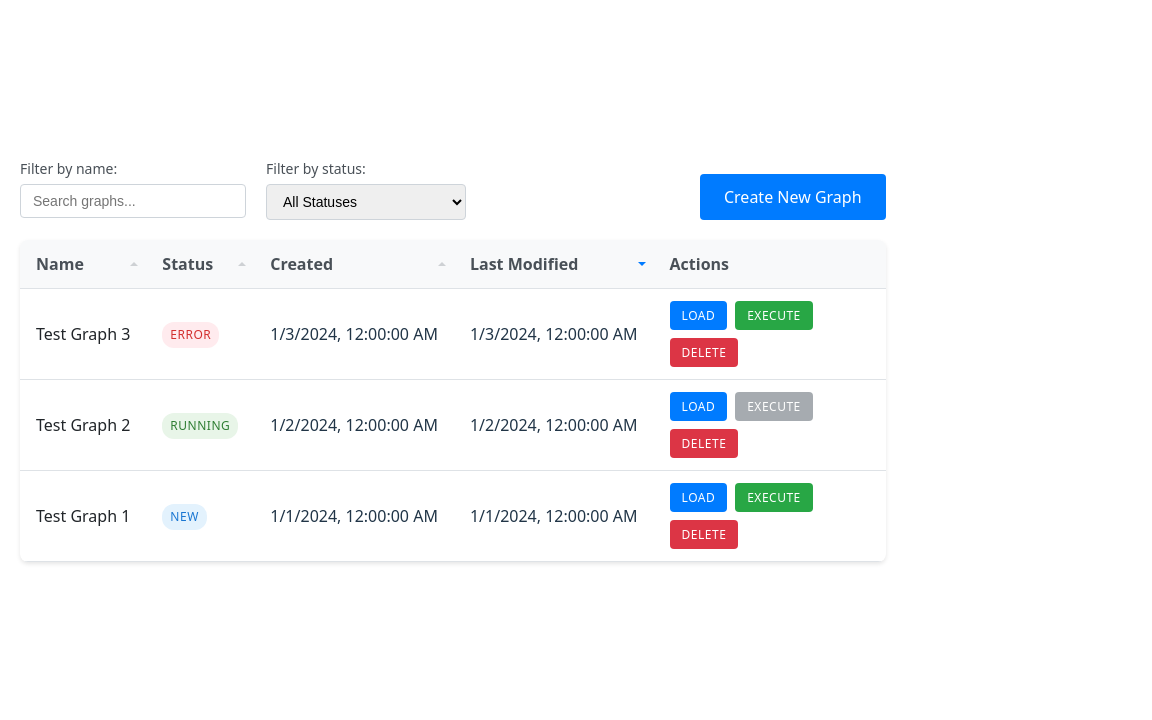
Test: GraphList › should show delete confirmation dialog
The image size is (1152, 720).
Click the button "Delete" in the row of "Test Graph 3": (704,352) [670,338,738,367]
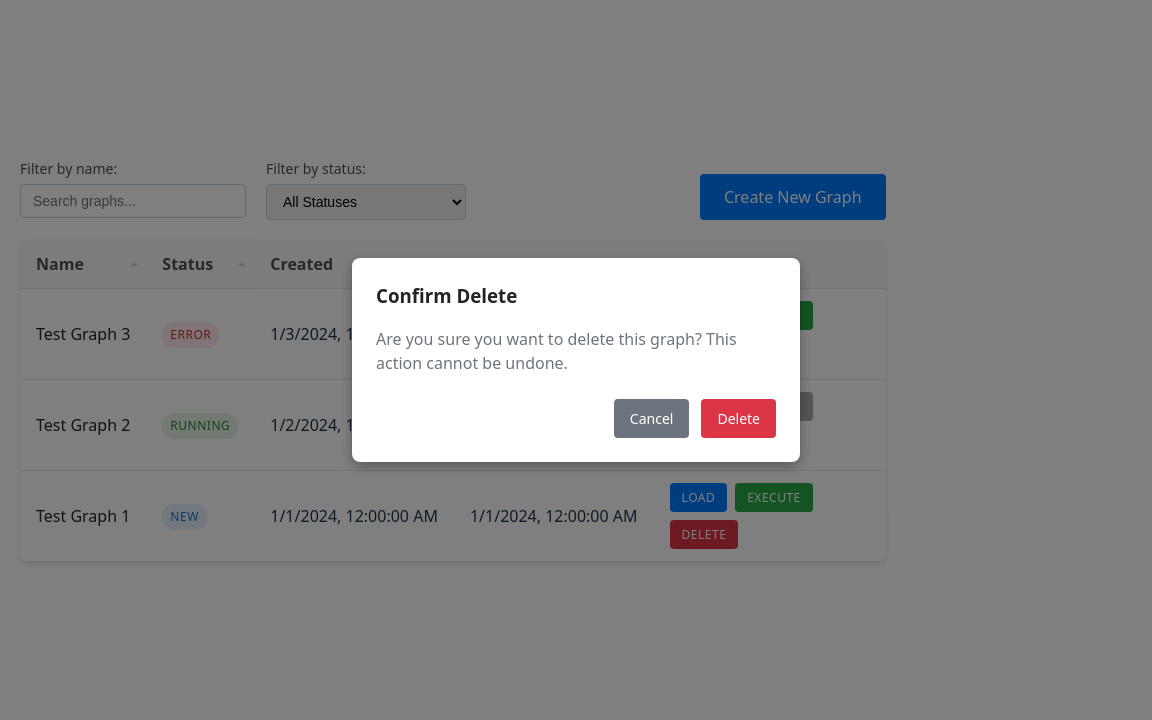
expect the heading "Confirm Delete" is shown: met, box [376,284,517,308]
expect the text "Are you sure you want to delete this graph" is shown: met, box [376,328,737,374]
